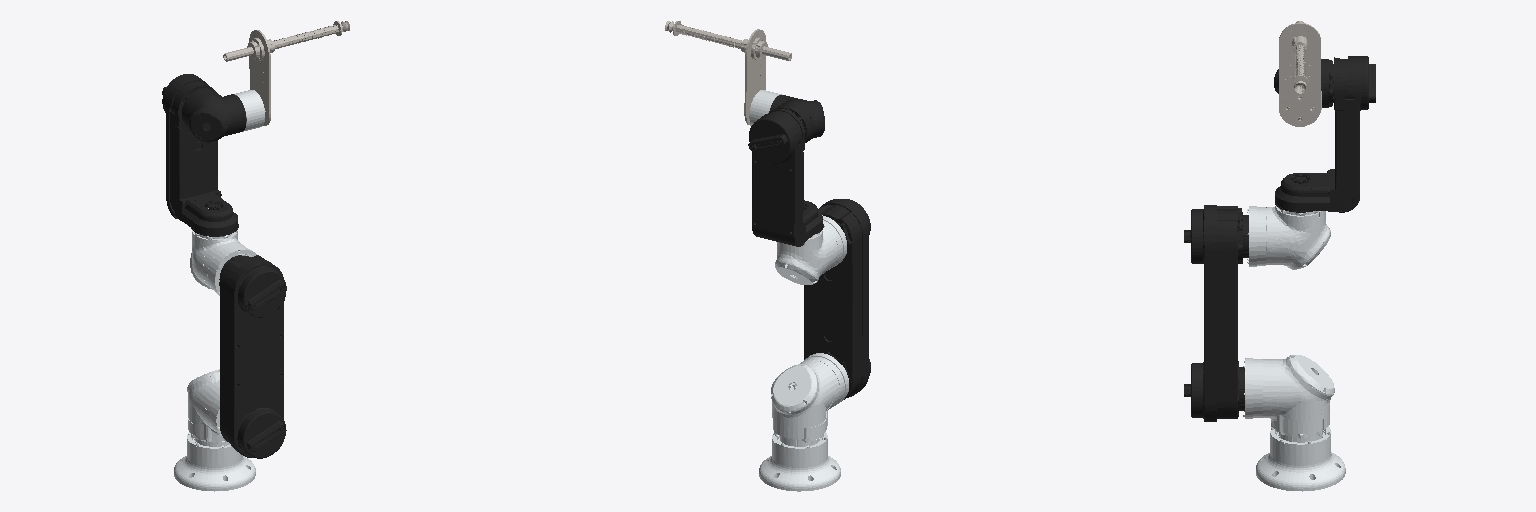
robot.urdf — owl_robot:
<?xml version="1.0" ?>
<!-- =================================================================================== -->
<!-- |    This document was autogenerated by xacro from [local-path]/orangewood_ws/src/orangewood_simstack/owl/owl_description/urdf/6.5/robot_vaccum.xacro | -->
<!-- |    EDITING THIS FILE BY HAND IS NOT RECOMMENDED                                 | -->
<!-- =================================================================================== -->
<robot name="owl_robot">
    <!-- Macro of OWL 6.5 without any end effector -->
    <!-- Macro of Vaccum Gripper -->
    <link name="world" />
    <joint name="virtual_joint" type="fixed">
        <origin rpy="0 0 0" xyz="0.0 0.0 0.0" />
        <parent link="world" />
        <child link="base_link" />
    </joint>
    <link name="base_link">
        <inertial>
            <origin rpy="0 0 0" xyz="2.7395E-05 -0.01813 4.3722E-05" />
            <mass value="2.39" />
            <inertia ixx="0.0060063" ixy="-2.5541E-15" ixz="-2.5603E-07" iyy="0.0095451" iyz="5.1619E-15" izz="0.006006" />
        </inertial>
        <visual>
            <origin rpy="0 0 0" xyz="0 0 0" />
            <geometry>
                <mesh filename="package://owl_description/meshes/6.5/visual/owl_robot/base_link.stl" />
            </geometry>
            <material name="">
                <color rgba="0.89804 0.91765 0.92941 1" />
            </material>
        </visual>
        <collision>
            <origin rpy="0 0 0" xyz="0 0 0" />
            <geometry>
                <mesh filename="package://owl_description/meshes/6.5/collision/owl_robot/base_link.stl" />
            </geometry>
        </collision>
    </link>
    <link name="shoulder_link">
        <inertial>
            <origin rpy="0 0 0" xyz="0.00042134 0.034391 -0.10382" />
            <mass value="4.613" />
            <inertia ixx="0.0035279" ixy="-5.6452E-06" ixz="-9.4882E-07" iyy="0.0046955" iyz="0.00045199" izz="0.0048177" />
        </inertial>
        <visual>
            <origin rpy="0 0 0" xyz="0 0 0" />
            <geometry>
                <mesh filename="package://owl_description/meshes/6.5/visual/owl_robot/shoulder_link.stl" />
            </geometry>
            <material name="">
                <color rgba="0.89804 0.91765 0.92941 1" />
            </material>
        </visual>
        <collision>
            <origin rpy="0 0 0" xyz="0 0 0" />
            <geometry>
                <mesh filename="package://owl_description/meshes/6.5/collision/owl_robot/shoulder_link.stl" />
            </geometry>
        </collision>
    </link>
    <joint name="BJ" type="revolute">
        <origin rpy="-3.1416 0 0" xyz="0 0 0" />
        <parent link="base_link" />
        <child link="shoulder_link" />
        <axis xyz="0 0 1" />
        <limit effort="500" lower="-3.14" upper="3.14" velocity="50" />
    </joint>
    <link name="link1">
        <inertial>
            <origin rpy="0 0 0" xyz=" 0.17795 0.00011012 -0.085428" />
            <mass value="9.431" />
            <inertia ixx="0.0052455" ixy="1.4977E-05" ixz="2.6778E-05" iyy="0.028778" iyz="-3.8624E-06" izz="0.032177" />
        </inertial>
        <visual>
            <origin rpy="0 0 0" xyz="0 0 0" />
            <geometry>
                <mesh filename="package://owl_description/meshes/6.5/visual/owl_robot/link1.stl" />
            </geometry>
            <material name="">
                <color rgba="0.2 0.2 0.2 1.0" />
            </material>
        </visual>
        <collision>
            <origin rpy="0 0 0" xyz="0 0 0" />
            <geometry>
                <mesh filename="package://owl_description/meshes/6.5/collision/owl_robot/link1.stl" />
            </geometry>
        </collision>
    </link>
    <joint name="SJ" type="revolute">
        <origin rpy="0.58944 1.5675 -0.983" xyz="0.00018339 0.066603 -0.1405" />
        <parent link="shoulder_link" />
        <child link="link1" />
        <axis xyz="0.0027142 -0.0011243 1" />
        <limit effort="500" lower="-1.6" upper="1.6" velocity="50" />
    </joint>
    <link name="elbow_link">
        <inertial>
            <origin rpy="0 0 0" xyz="0.00023616 -0.028792 -0.029823" />
            <mass value="4.613" />
            <inertia ixx="0.0023499" ixy="-2.7675E-06" ixz="-4.1087E-07" iyy="0.0030181" iyz="-0.00026183" izz="0.0035661" />
        </inertial>
        <visual>
            <origin rpy="0 0 0" xyz="0 0 0" />
            <geometry>
                <mesh filename="package://owl_description/meshes/6.5/visual/owl_robot/elbow_link.stl" />
            </geometry>
            <material name="">
                <color rgba="0.89804 0.91765 0.92941 1" />
            </material>
        </visual>
        <collision>
            <origin rpy="0 0 0" xyz="0 0 0" />
            <geometry>
                <mesh filename="package://owl_description/meshes/6.5/collision/owl_robot/elbow_link.stl" />
            </geometry>
        </collision>
    </link>
    <joint name="EJ" type="revolute">
        <origin rpy="3.1389 -0.0018334 -1.5781" xyz="0.35575 0 -0.00096557" />
        <parent link="link1" />
        <child link="elbow_link" />
        <axis xyz="0 0 1" />
        <limit effort="500" lower="-2.8" upper="3.14" velocity="50" />
    </joint>
    <link name="link2">
        <inertial>
            <origin rpy="0 0 0" xyz="0.00015054 -0.075078 0.13834" />
            <mass value="2.4407" />
            <inertia ixx="0.009134" ixy="-3.9978E-06" ixz="-4.8015E-06" iyy="0.010823" iyz="0.00068065" izz="0.0041094" />
        </inertial>
        <visual>
            <origin rpy="0 0 0" xyz="0 0 0" />
            <geometry>
                <mesh filename="package://owl_description/meshes/6.5/visual/owl_robot/link2.stl" />
            </geometry>
            <material name="">
                <color rgba="0.2 0.2 0.2 1.0" />
            </material>
        </visual>
        <collision>
            <origin rpy="0 0 0" xyz="0 0 0" />
            <geometry>
                <mesh filename="package://owl_description/meshes/6.5/collision/owl_robot/link2.stl" />
            </geometry>
        </collision>
    </link>
    <joint name="W1J" type="revolute">
        <origin rpy="1.5708 -0.0023608 0" xyz="0.00019567 -0.079361 -0.066603" />
        <parent link="elbow_link" />
        <child link="link2" />
        <axis xyz="0 0 -1" />
        <limit effort="500" lower="-2.84489" upper="2.84489" velocity="50" />
    </joint>
    <link name="w2w3_link">
        <inertial>
            <origin rpy="0 0 0" xyz="0.00025923 0.029764 0.027271" />
            <mass value="3.118" />
            <inertia ixx="0.0014884" ixy="2.1526E-06" ixz="6.6731E-06" iyy="0.0016882" iyz="0.0001816" izz="0.0019291" />
        </inertial>
        <visual>
            <origin rpy="0 0 0" xyz="0 0 0" />
            <geometry>
                <mesh filename="package://owl_description/meshes/6.5/visual/owl_robot/w2w3_link.stl" />
            </geometry>
            <material name="">
                <color rgba="0.2 0.2 0.2 1.0" />
            </material>
        </visual>
        <collision>
            <origin rpy="0 0 0" xyz="0 0 0" />
            <geometry>
                <mesh filename="package://owl_description/meshes/6.5/collision/owl_robot/w2w3_link.stl" />
            </geometry>
        </collision>
    </link>
    <joint name="W2J" type="revolute">
        <origin rpy="2.745 -1.5667 -1.1726" xyz="0 0 0.27639" />
        <parent link="link2" />
        <child link="w2w3_link" />
        <axis xyz="0.0037507 -0.00083382 0.99999" />
        <limit effort="500" lower="-1.6" upper="0.78" velocity="50" />
        <safety_controller k_position="100" k_velocity="1.5" soft_lower_limit="-1.857" soft_upper_limit="0.8" />
    </joint>
    <link name="end_effector_link">
        <inertial>
            <origin rpy="0 0 0" xyz="2.2451E-05 -0.00060487 0.098537" />
            <mass value="0.188" />
            <inertia ixx="0.00017935" ixy="-3.2299E-08" ixz="-2.1374E-07" iyy="0.00017907" iyz="-4.545E-07" izz="0.00025742" />
        </inertial>
        <visual>
            <origin rpy="0 0 0" xyz="0 0 0" />
            <geometry>
                <mesh filename="package://owl_description/meshes/6.5/visual/owl_robot/end_effector_link.stl" />
            </geometry>
            <material name="">
                <color rgba="0.89804 0.91765 0.92941 1" />
            </material>
        </visual>
        <collision>
            <origin rpy="0 0 0" xyz="0 0 0" />
            <geometry>
                <mesh filename="package://owl_description/meshes/6.5/collision/owl_robot/end_effector_link.stl" />
            </geometry>
        </collision>
    </link>
    <joint name="W3J" type="revolute">
        <origin rpy="-1.2578 -1.5668 -0.31786" xyz="0 0 0" />
        <limit effort="500" lower="-3.1" upper="3.1" velocity="50" />
        <parent link="w2w3_link" />
        <child link="end_effector_link" />
        <axis xyz="0 0 1" />
    </joint>
    <link name="tcp">
        <inertial>
            <origin rpy="0 0 0" xyz="0 0 0" />
            <mass value="1e-9" />
            <inertia ixx="0" ixy="0" ixz="0" iyy="0" iyz="0" izz="0" />
        </inertial>
    </link>
    <joint name="tcp_frame" type="fixed">
        <origin rpy="5.94633e-15 -1.33504e-14 -1.5708" xyz="4.33681e-19 0 0.1225" />
        <parent link="end_effector_link" />
        <child link="tcp" />
        <axis xyz="0 0 0" />
    </joint>
    <link name="gripper_link">
        <inertial>
            <origin rpy="0 0 0" xyz="0.092094 -0.0025024 -0.013531" />
            <mass value="0.99242" />
            <inertia ixx="0.0019778" ixy="-9.0867E-08" ixz="-1.3288E-08" iyy="0.00448" iyz="-3.6223E-08" izz="0.003475" />
        </inertial>
        <visual>
            <origin rpy="0 0 0" xyz="0 0 0" />
            <geometry>
                <mesh filename="package://owl_description/meshes/grippers/vaccum/base_link.stl" />
            </geometry>
            <material name="">
                <color rgba="0.77647 0.75686 0.73725 1" />
            </material>
        </visual>
        <collision>
            <origin rpy="0 0 0" xyz="0 0 0" />
            <geometry>
                <mesh filename="package://owl_description/meshes/grippers/vaccum/base_link.stl" />
            </geometry>
        </collision>
    </link>
    <joint name="robot_ee" type="fixed">
        <origin rpy="1.57 0 3.14" xyz="0.0 0.0 0.0" />
        <parent link="tcp" />
        <child link="gripper_link" />
    </joint>
    <transmission name="trans_BJ">
        <type>transmission_interface/SimpleTransmission</type>
        <joint name="BJ">
            <hardwareInterface>hardware_interface/PositionJointInterface</hardwareInterface>
        </joint>
        <actuator name="BJ_motor">
            <hardwareInterface>hardware_interface/PositionJointInterface</hardwareInterface>
            <mechanicalReduction>1</mechanicalReduction>
        </actuator>
    </transmission>
    <transmission name="trans_SJ">
        <type>transmission_interface/SimpleTransmission</type>
        <joint name="SJ">
            <hardwareInterface>hardware_interface/PositionJointInterface</hardwareInterface>
        </joint>
        <actuator name="SJ_motor">
            <hardwareInterface>hardware_interface/PositionJointInterface</hardwareInterface>
            <mechanicalReduction>1</mechanicalReduction>
        </actuator>
    </transmission>
    <transmission name="trans_EJ">
        <type>transmission_interface/SimpleTransmission</type>
        <joint name="EJ">
            <hardwareInterface>hardware_interface/PositionJointInterface</hardwareInterface>
        </joint>
        <actuator name="EJ_motor">
            <hardwareInterface>hardware_interface/PositionJointInterface</hardwareInterface>
            <mechanicalReduction>1</mechanicalReduction>
        </actuator>
    </transmission>
    <transmission name="trans_W1J">
        <type>transmission_interface/SimpleTransmission</type>
        <joint name="W1J">
            <hardwareInterface>hardware_interface/PositionJointInterface</hardwareInterface>
        </joint>
        <actuator name="W1J_motor">
            <hardwareInterface>hardware_interface/PositionJointInterface</hardwareInterface>
            <mechanicalReduction>1</mechanicalReduction>
        </actuator>
    </transmission>
    <transmission name="trans_W2J">
        <type>transmission_interface/SimpleTransmission</type>
        <joint name="W2J">
            <hardwareInterface>hardware_interface/PositionJointInterface</hardwareInterface>
        </joint>
        <actuator name="W2J_motor">
            <hardwareInterface>hardware_interface/PositionJointInterface</hardwareInterface>
            <mechanicalReduction>1</mechanicalReduction>
        </actuator>
    </transmission>
    <transmission name="trans_W3J">
        <type>transmission_interface/SimpleTransmission</type>
        <joint name="W3J">
            <hardwareInterface>hardware_interface/PositionJointInterface</hardwareInterface>
        </joint>
        <actuator name="W3J_motor">
            <hardwareInterface>hardware_interface/PositionJointInterface</hardwareInterface>
            <mechanicalReduction>1</mechanicalReduction>
        </actuator>
    </transmission>
    <gazebo>
        <plugin name="gazebo_ros_control" filename="libgazebo_ros_control.so">
            <robotNamespace>/</robotNamespace>
        </plugin>
    </gazebo>
</robot>

--- What the picture shows (computed from the rendered views, not written in the file) ---
Views: 3 orthographic renders of the robot side by side, from view 1: azimuth 30°, elevation 25°; view 2: azimuth 150°, elevation 25°; view 3: azimuth 270°, elevation 25°.
Robot: owl_robot — 10 links, 9 joints (6 revolute, 3 fixed); root link world; default pose: every joint at zero.
Visible links, largest first — view 1: link1, link2, base_link, w2w3_link, gripper_link, shoulder_link, elbow_link, end_effector_link; view 2: link1, link2, shoulder_link, base_link, elbow_link, gripper_link, w2w3_link, end_effector_link; view 3: link1, link2, shoulder_link, elbow_link, gripper_link, base_link, w2w3_link.
Boxes of the visible links, bbox=[...] form: link1: bbox=[219, 255, 286, 458]; link2: bbox=[162, 74, 238, 236]; base_link: bbox=[174, 432, 255, 491]; w2w3_link: bbox=[182, 88, 246, 142]; gripper_link: bbox=[223, 21, 349, 125]; shoulder_link: bbox=[187, 369, 229, 446]; elbow_link: bbox=[190, 208, 256, 295]; end_effector_link: bbox=[234, 90, 264, 131]; link1: bbox=[804, 199, 870, 399]; link2: bbox=[748, 108, 823, 246]; shoulder_link: bbox=[771, 353, 848, 446]; base_link: bbox=[759, 432, 840, 491]; elbow_link: bbox=[775, 215, 846, 284]; gripper_link: bbox=[665, 21, 791, 125]; w2w3_link: bbox=[769, 95, 824, 142]; end_effector_link: bbox=[749, 90, 781, 125]; link1: bbox=[1184, 205, 1248, 421]; link2: bbox=[1275, 56, 1375, 212]; shoulder_link: bbox=[1243, 355, 1334, 442]; elbow_link: bbox=[1247, 206, 1330, 269]; gripper_link: bbox=[1279, 21, 1320, 126]; base_link: bbox=[1256, 426, 1345, 491]; w2w3_link: bbox=[1274, 59, 1333, 107].
Bounding box of the posed robot: 0.4491 × 0.4074 × 1.1 m (x, y, z).
Meshes: 8 distinct files referenced, 8 mesh visuals loaded (8 binary STL).
